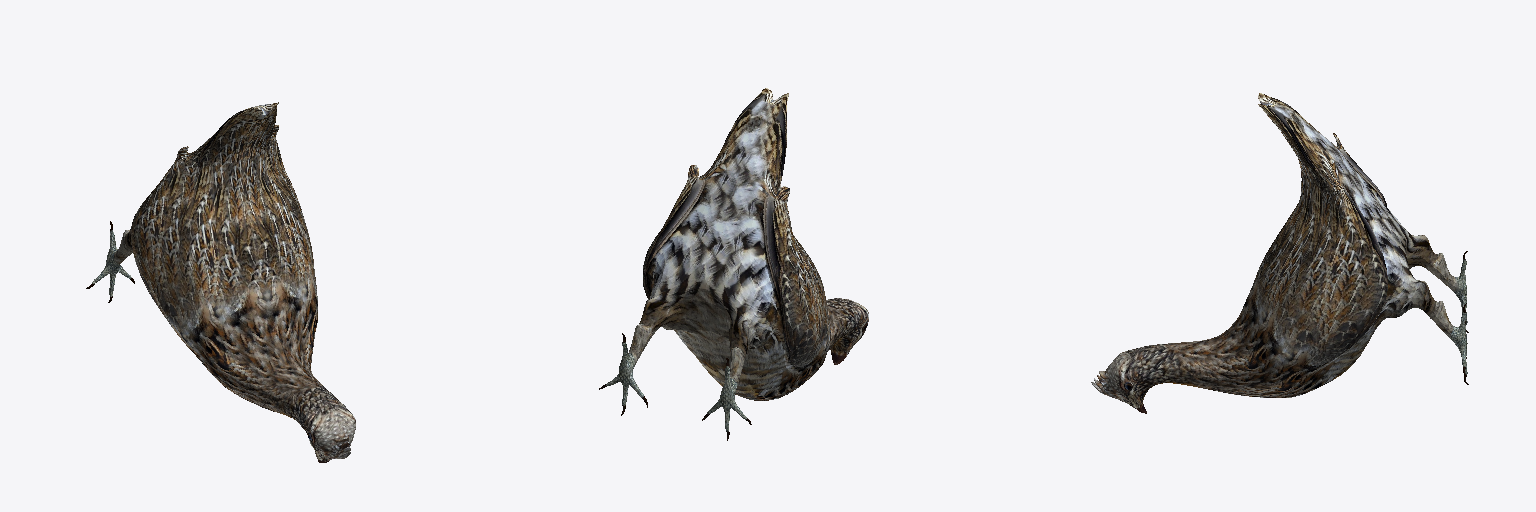
3 renders of one model, left to right at view 1: azimuth 30°, elevation 25°; view 2: azimuth 150°, elevation 25°; view 3: azimuth 270°, elevation 25°, orthographic.
Parts seen in each view (by area): view 1: Grouse_Box01; view 2: Grouse_Box01; view 3: Grouse_Box01.
Boxes of the visible parts, <box> form: Grouse_Box01: <box>86,102,355,462</box>; Grouse_Box01: <box>599,88,868,440</box>; Grouse_Box01: <box>1091,93,1468,413</box>.
Bounding box in the file's own units: 6.2 × 11.94 × 12.93.
1 materials, 1 textured.